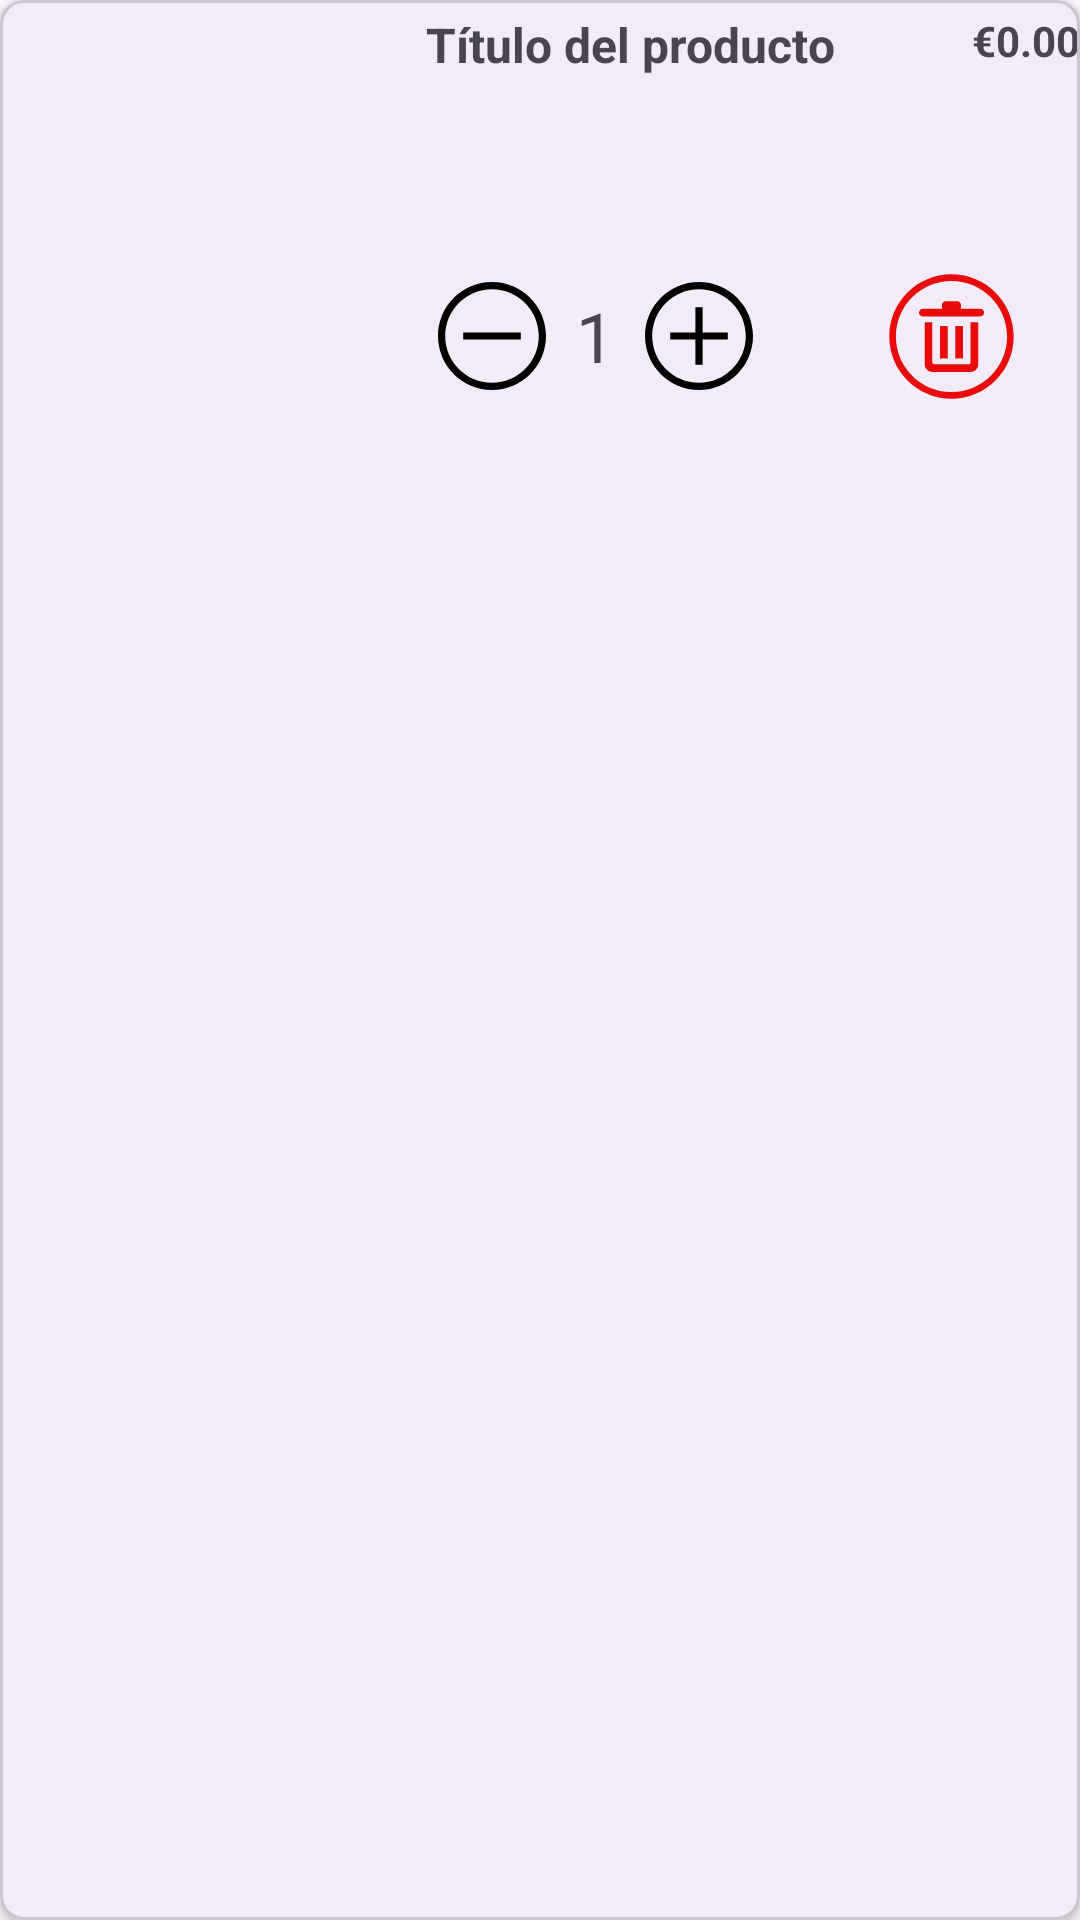

Icons on this 1080×1920 Android screen, each with its box as bbox=(x1, y1, x2, y2):
bin trash: bbox=(889, 274, 1014, 399)
product detail add: bbox=(645, 282, 753, 390)
product detail substract: bbox=(438, 282, 546, 390)
